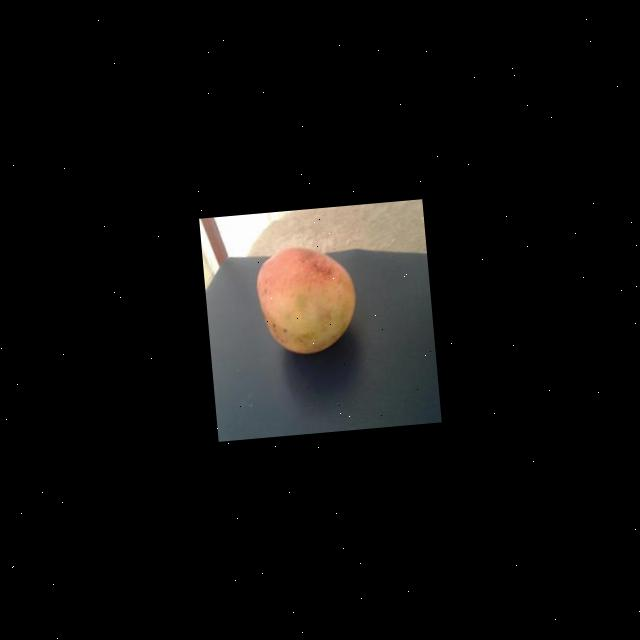Mango: (252, 240, 360, 357)
